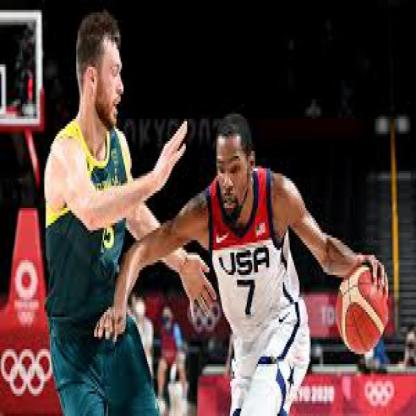basketball: (334, 262, 390, 356)
